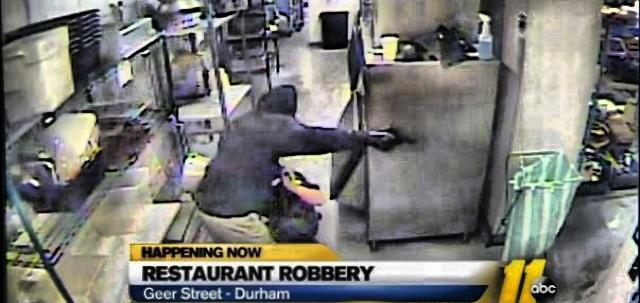pistol: (374, 121, 416, 162)
